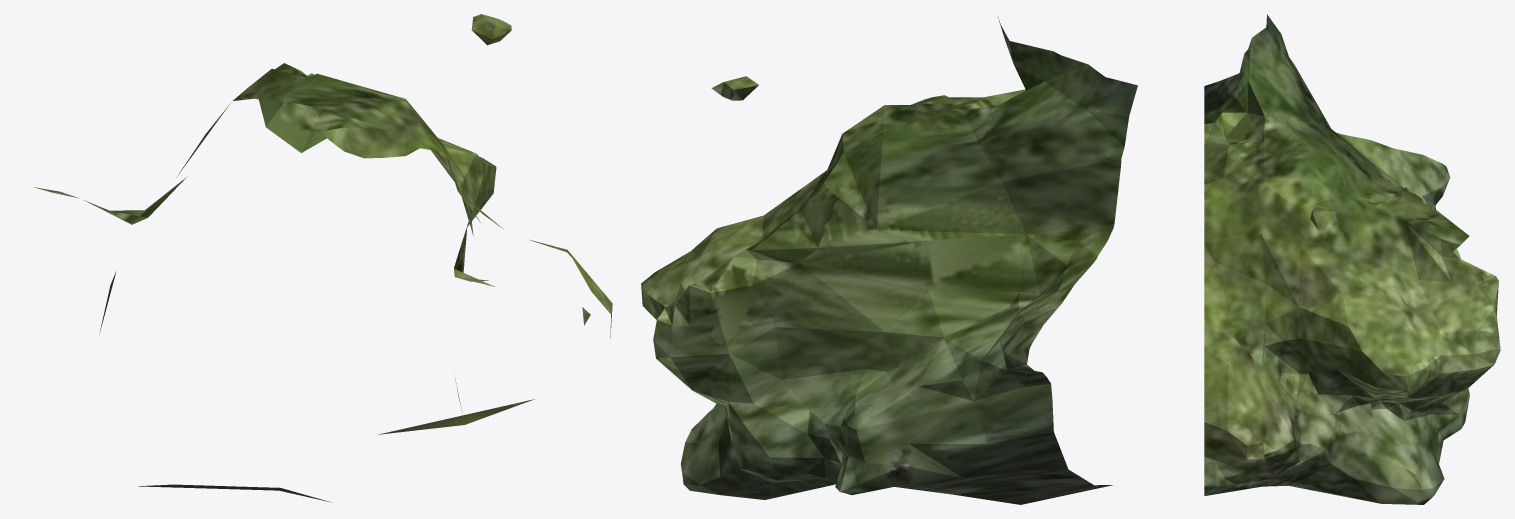
3 views of the same model, side by side, from view 1: azimuth 30°, elevation 25°; view 2: azimuth 150°, elevation 25°; view 3: azimuth 270°, elevation 25° (orthographic). The views are drawn at different scales.
Size of the model in its own units: 1.78 by 1.71 by 1.29.
Materials: 2 (2 with a texture image).
